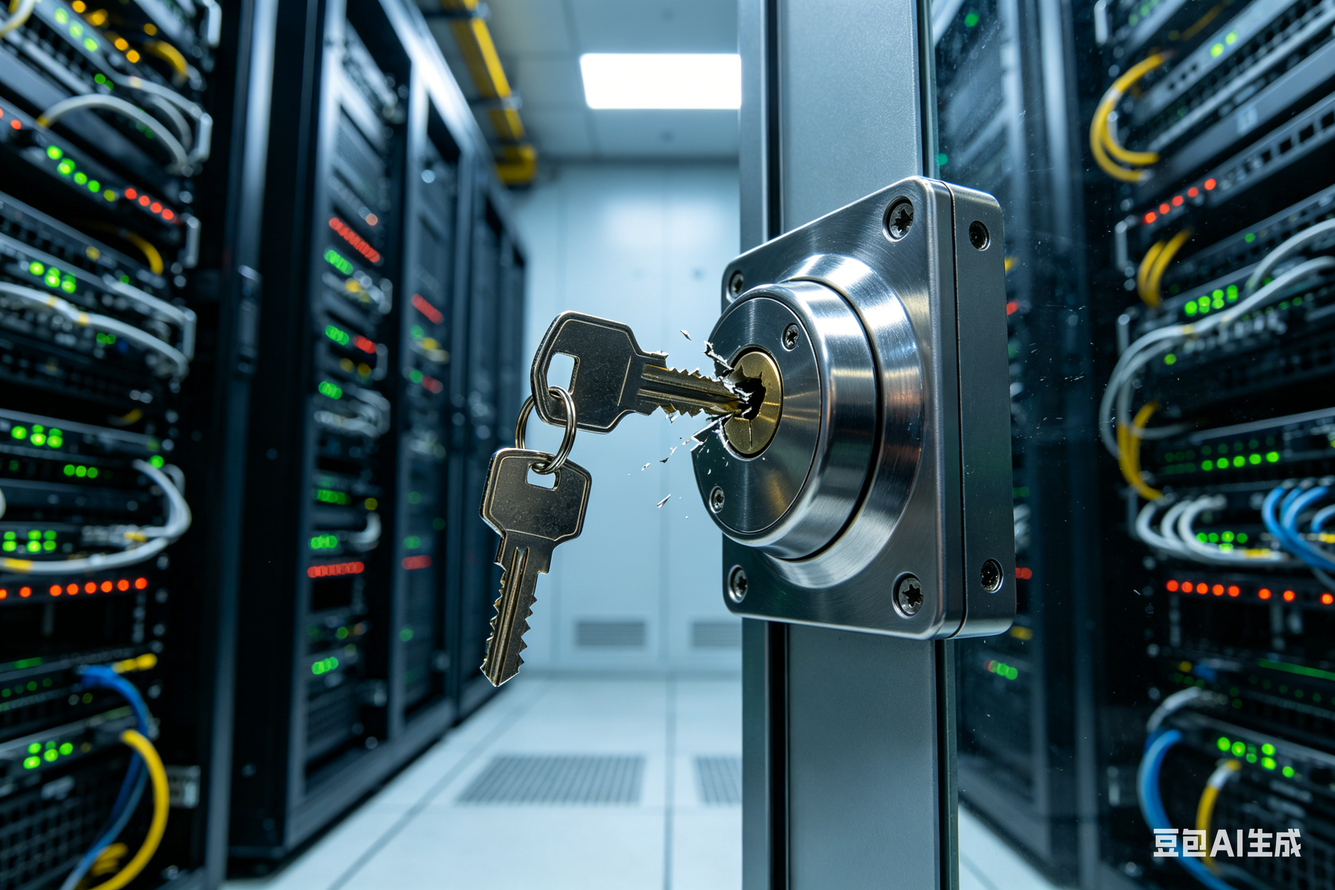BadLock: (659, 311, 862, 511)
